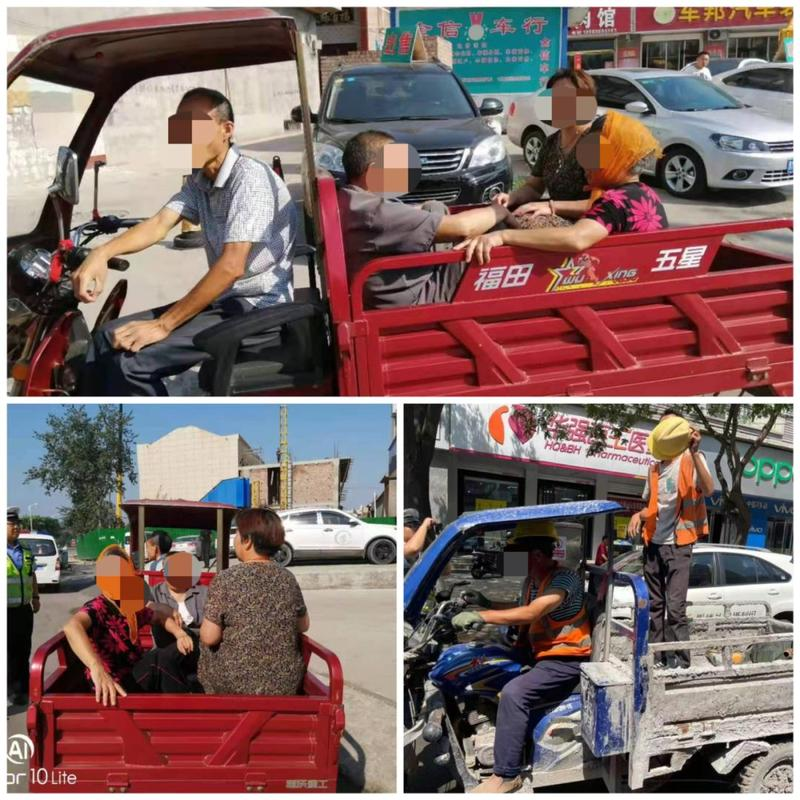driver: (63, 73, 314, 384), (459, 507, 599, 787), (143, 528, 221, 610)
overloading: (22, 20, 778, 394), (426, 428, 793, 800), (37, 476, 330, 792)
passenger: (337, 113, 499, 328), (191, 497, 327, 715), (617, 412, 727, 675), (578, 110, 681, 282), (70, 552, 188, 698), (541, 70, 594, 234)
